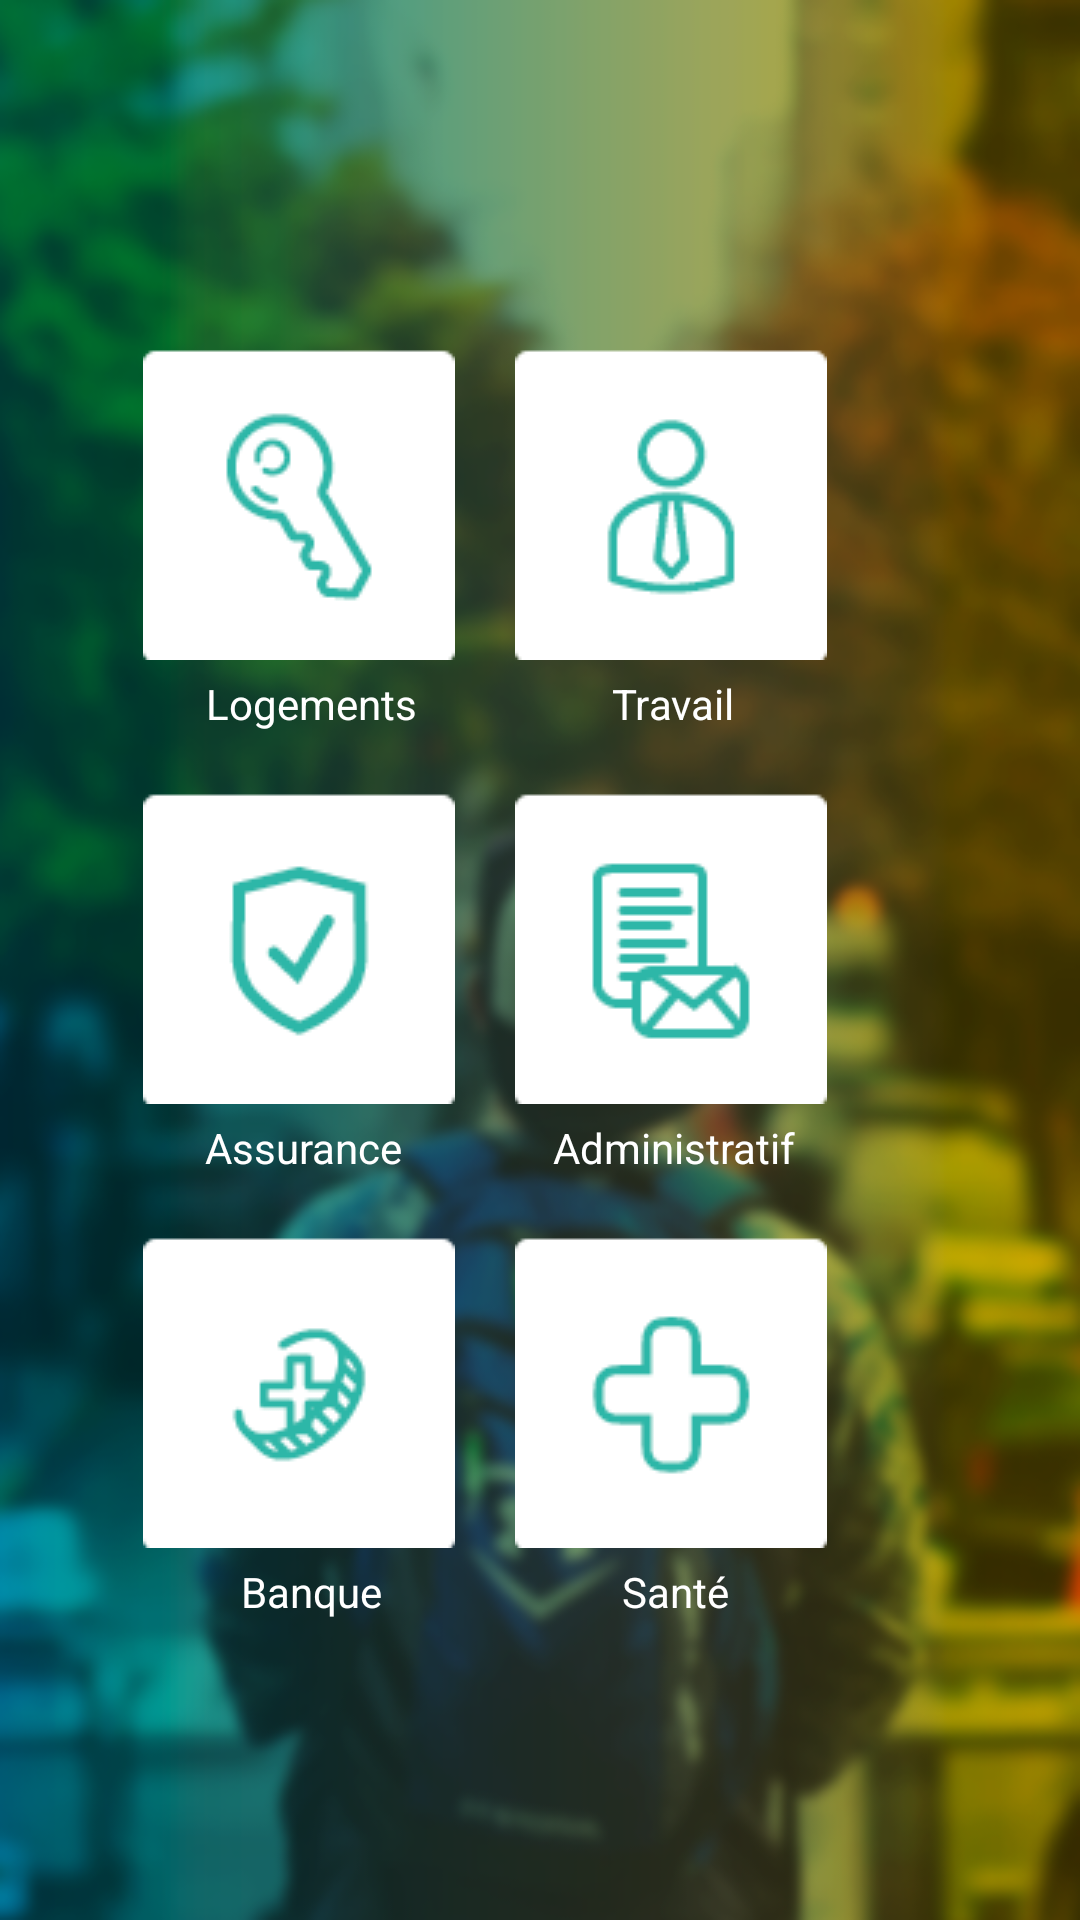

Where to tap for icons on this 1080px x 1920px app screen, as (x,y):
check anim: (299,948)
cross anim: (671,1392)
key anim: (299,504)
user anim: (671,504)
